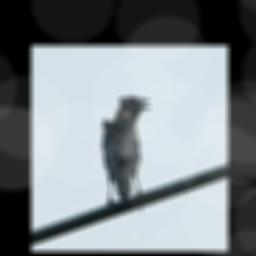Crow: (101, 91, 150, 215)
